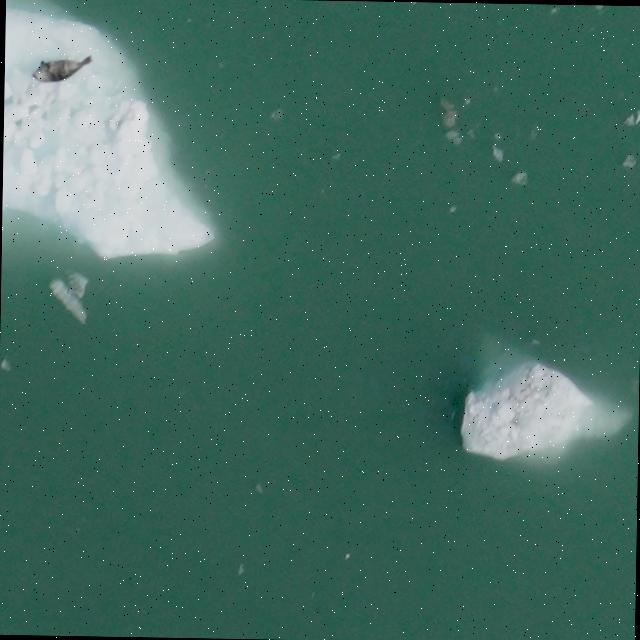seal: (26, 49, 96, 86)
